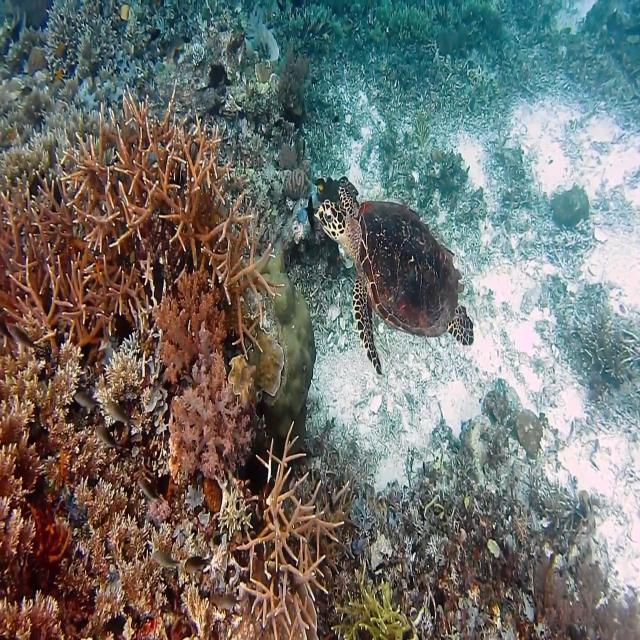Hawksbill-Sea-Turtle -Endangered-: (316, 180, 474, 376)
